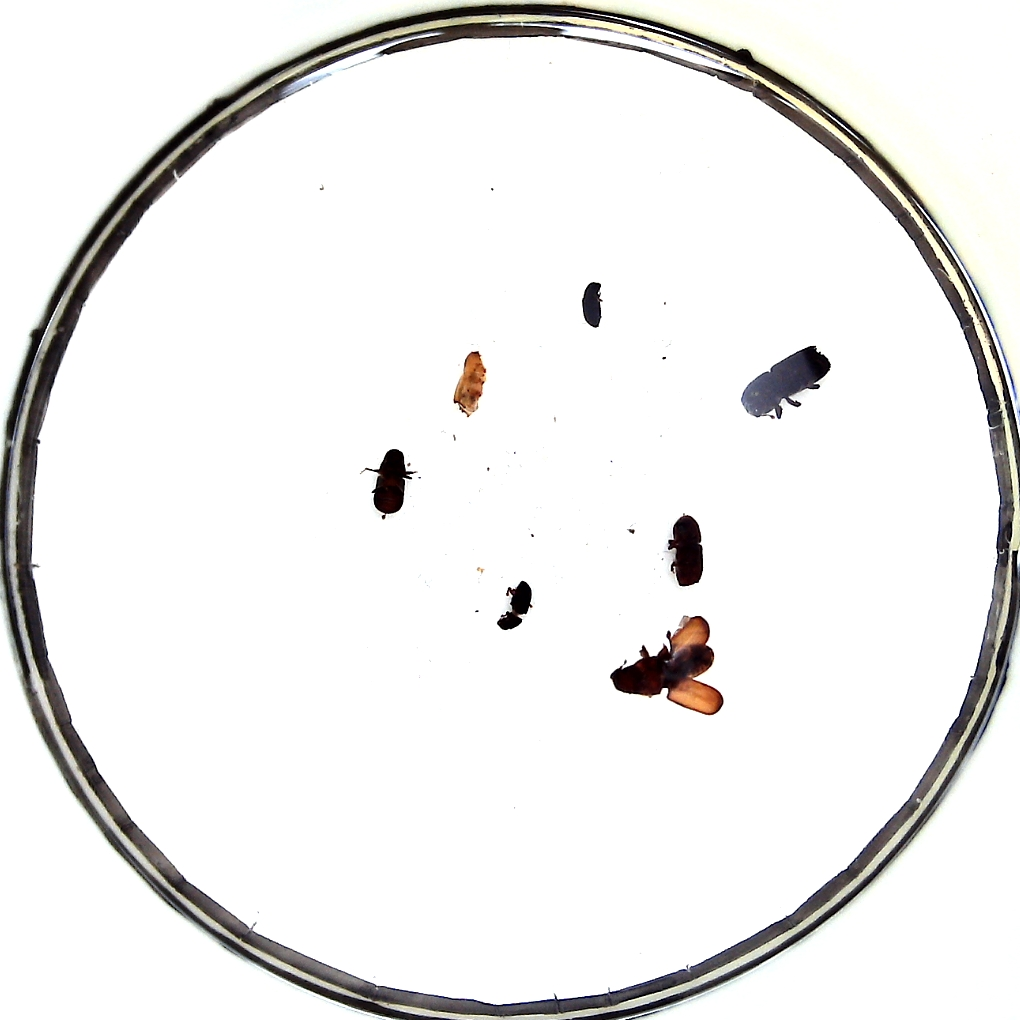Boerner: (742, 346, 831, 417)
Leconte: (610, 644, 714, 694)
acuminatus: (496, 580, 531, 630), (581, 281, 601, 327)
armandi: (373, 448, 406, 514)
coleoptera: (453, 350, 486, 414)
linnaeus: (672, 514, 703, 586)
